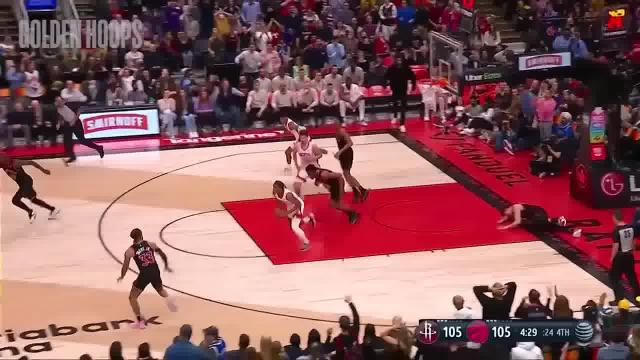ball-handler: (264, 179, 318, 254)
player: (116, 225, 180, 329), (0, 148, 63, 227), (494, 195, 586, 246), (308, 165, 365, 232), (328, 119, 372, 205), (287, 130, 327, 186), (274, 110, 310, 165)
